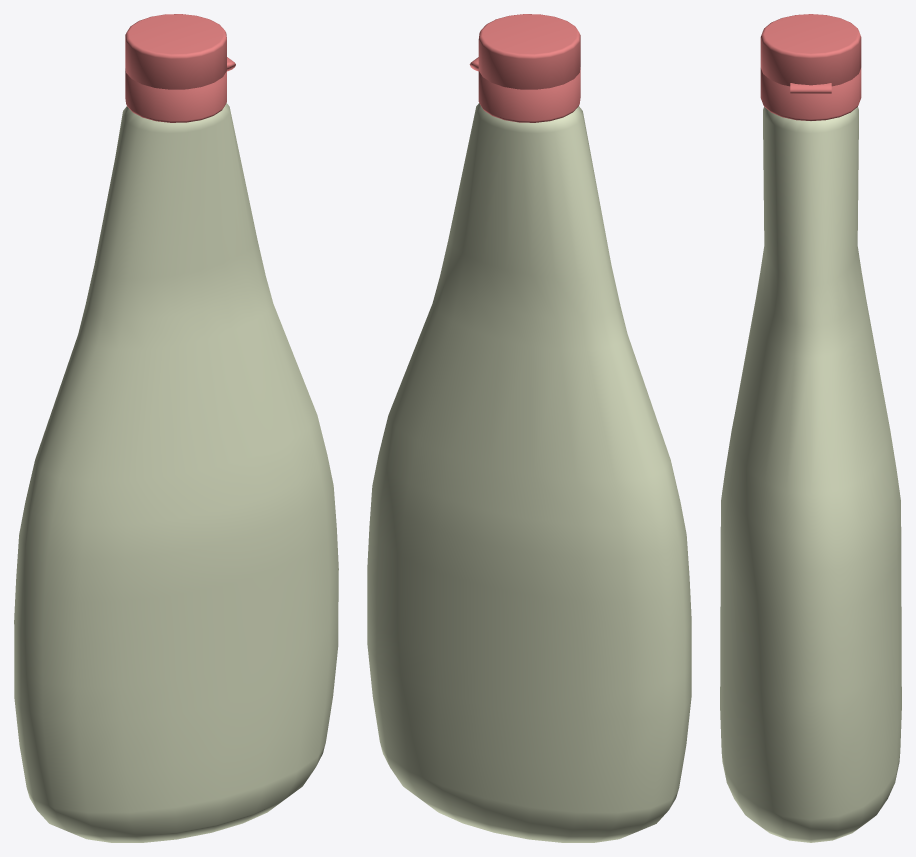
The model's file is SauceBottle.fbx.
3 views of the same model, side by side, from view 1: azimuth 30°, elevation 25°; view 2: azimuth 150°, elevation 25°; view 3: azimuth 270°, elevation 25° (orthographic).
Visible parts, largest first — view 1: Bottle, topCap, lowCap; view 2: Bottle, topCap, lowCap; view 3: Bottle, topCap, lowCap, bottlerotation.
Boxes of the visible parts, x1,y1,x2,y2 form: Bottle: (14,103,338,842); topCap: (125,14,226,89); lowCap: (125,68,226,122); Bottle: (367,103,691,842); topCap: (478,14,580,89); lowCap: (478,67,580,122); Bottle: (720,107,901,842); topCap: (760,14,861,86); lowCap: (760,68,861,120); bottlerotation: (790,83,831,93).
Bounding box in the file's own units: 15.49 × 36.72 × 7.98.
